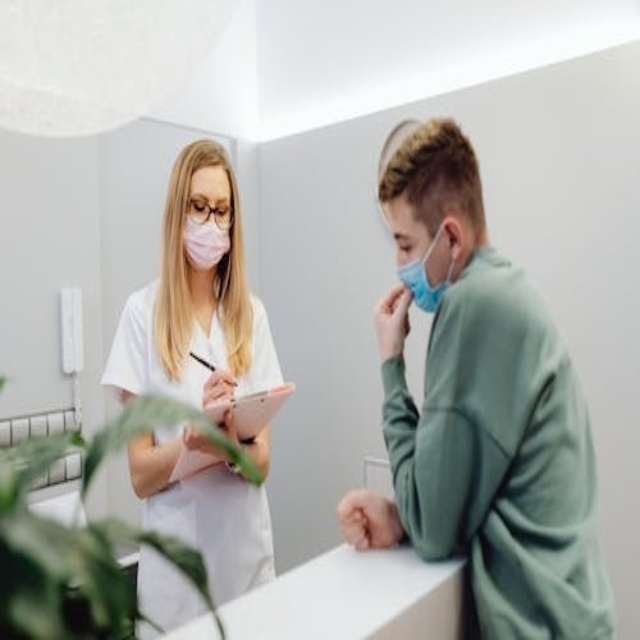Gafas: (186, 197, 234, 229)
Mascara: (396, 223, 455, 312), (182, 213, 232, 270)
Sin_gafas: (388, 221, 430, 259)
Sin_guantes: (369, 279, 415, 356), (335, 487, 381, 551), (197, 359, 239, 407), (181, 417, 232, 456)
